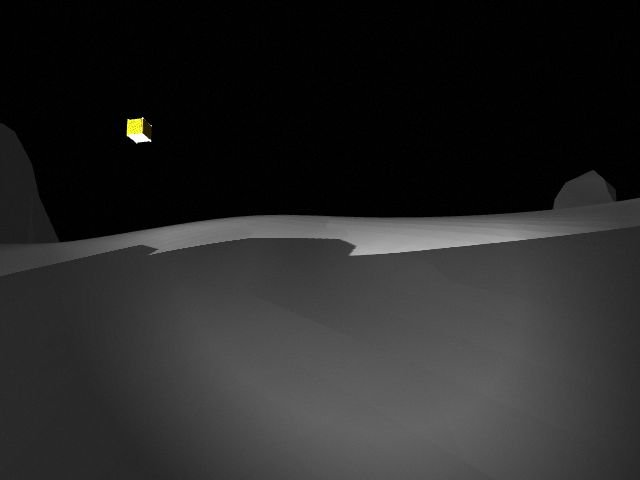cubesat: (119, 113, 167, 147)
